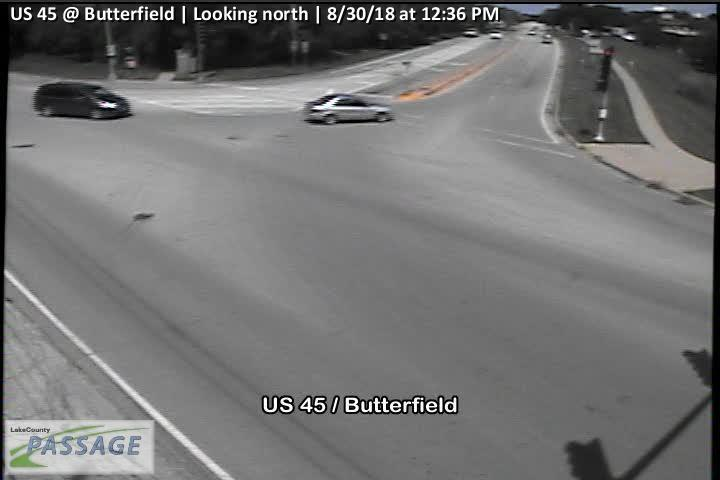SUV: (33, 81, 132, 121), (462, 26, 477, 38), (540, 31, 553, 44)
Sedan: (302, 92, 395, 127), (489, 27, 502, 39), (526, 28, 536, 36)
